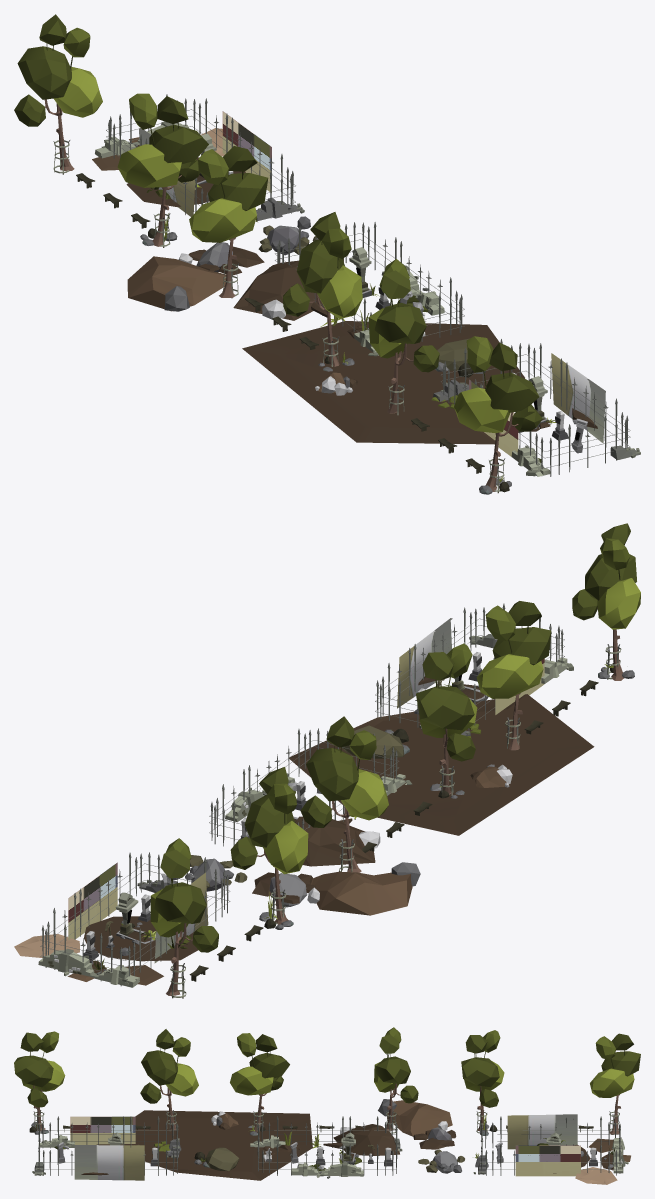
The model's file is NecroPOLY_Chunk_02e.fbx.
3 renders of one model, top to bottom at view 1: azimuth 30°, elevation 25°; view 2: azimuth 150°, elevation 25°; view 3: azimuth 270°, elevation 25°, orthographic. The views are drawn at different scales.
Parts seen in each view (by area): view 1: NecroPOLY_Chunk_02e_LOD0; view 2: NecroPOLY_Chunk_02e_LOD0; view 3: NecroPOLY_Chunk_02e_LOD0.
Part boxes in pixels (<box>): NecroPOLY_Chunk_02e_LOD0: <box>14,14,640,494</box>; NecroPOLY_Chunk_02e_LOD0: <box>14,523,640,998</box>; NecroPOLY_Chunk_02e_LOD0: <box>14,1027,640,1184</box>.
Size of what is drawn, in the model's own units: 26.44 by 16.21 by 86.26.
